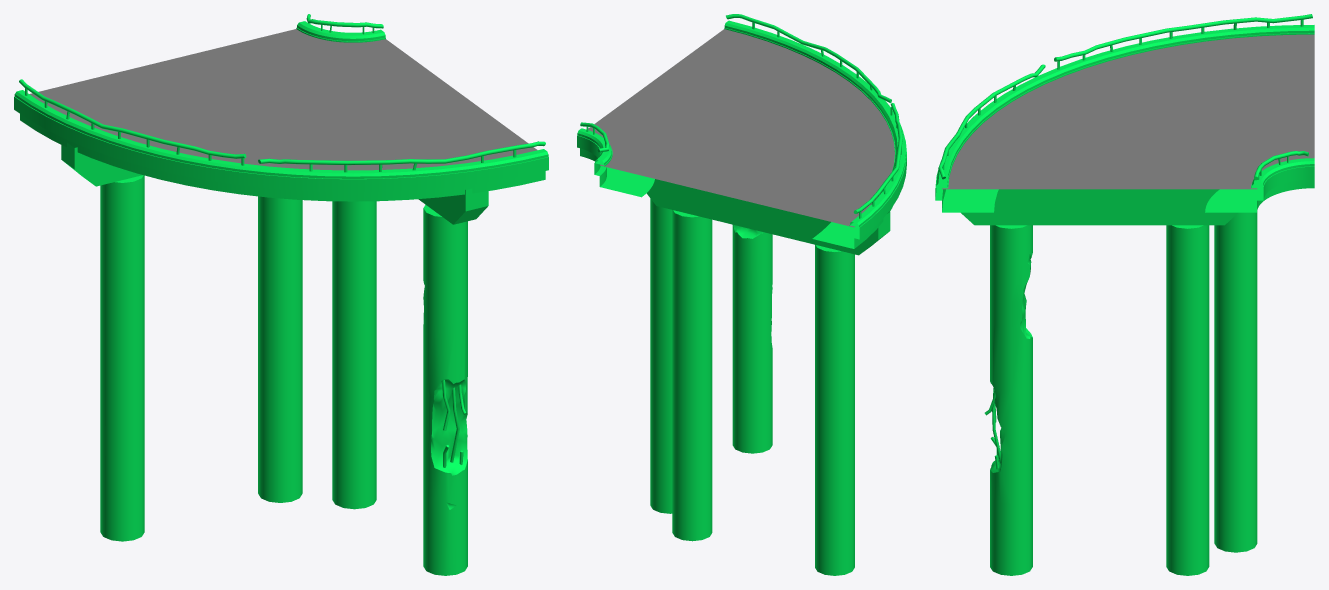
Rendered from Track_Asphalt_03.fbx.
3 renders of one model, left to right at view 1: azimuth 30°, elevation 25°; view 2: azimuth 150°, elevation 25°; view 3: azimuth 270°, elevation 25°, orthographic. The views are drawn at different scales.
Visible parts, largest first — view 1: Track_Asphalt_03, Road; view 2: Track_Asphalt_03, Road; view 3: Track_Asphalt_03, Road.
Boxes of the visible parts, x1=… form: Track_Asphalt_03: x1=14, y1=14, x2=548, y2=575; Road: x1=29, y1=29, x2=537, y2=170; Track_Asphalt_03: x1=577, y1=14, x2=906, y2=575; Road: x1=588, y1=29, x2=894, y2=227; Track_Asphalt_03: x1=935, y1=14, x2=1314, y2=575; Road: x1=942, y1=34, x2=1314, y2=189.
Size of what is drawn, in the model's own units: 2650 by 2645 by 3276.
